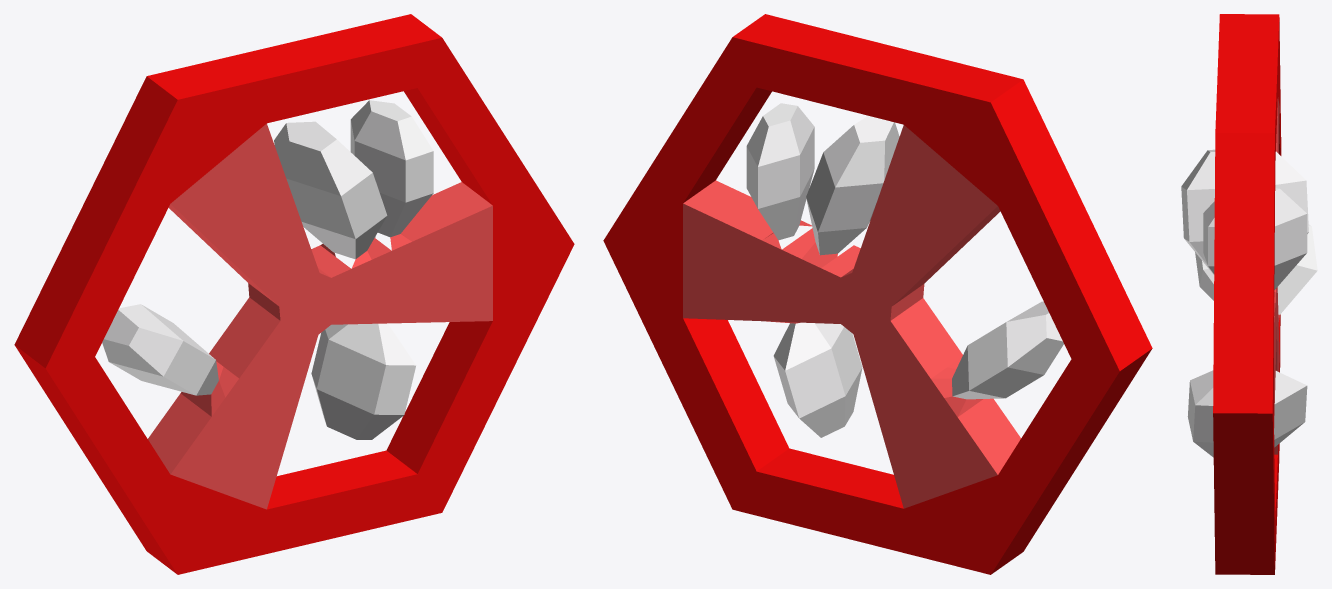
The model's file is pepperchili03.gltf.
3 renders of one model, left to right at view 1: azimuth 30°, elevation 25°; view 2: azimuth 150°, elevation 25°; view 3: azimuth 270°, elevation 25°, orthographic. The views are drawn at different scales.
Visible parts, largest first — view 1: Cylinder; view 2: Cylinder; view 3: Cylinder.
Part boxes in pixels (x1,y1,x2,y2): Cylinder: (14, 14, 574, 574); Cylinder: (603, 14, 1152, 574); Cylinder: (1181, 14, 1317, 574).
Size of the model in its own units: 0.0293 by 0.0253 by 0.0071.
1 material, 1 textured.
